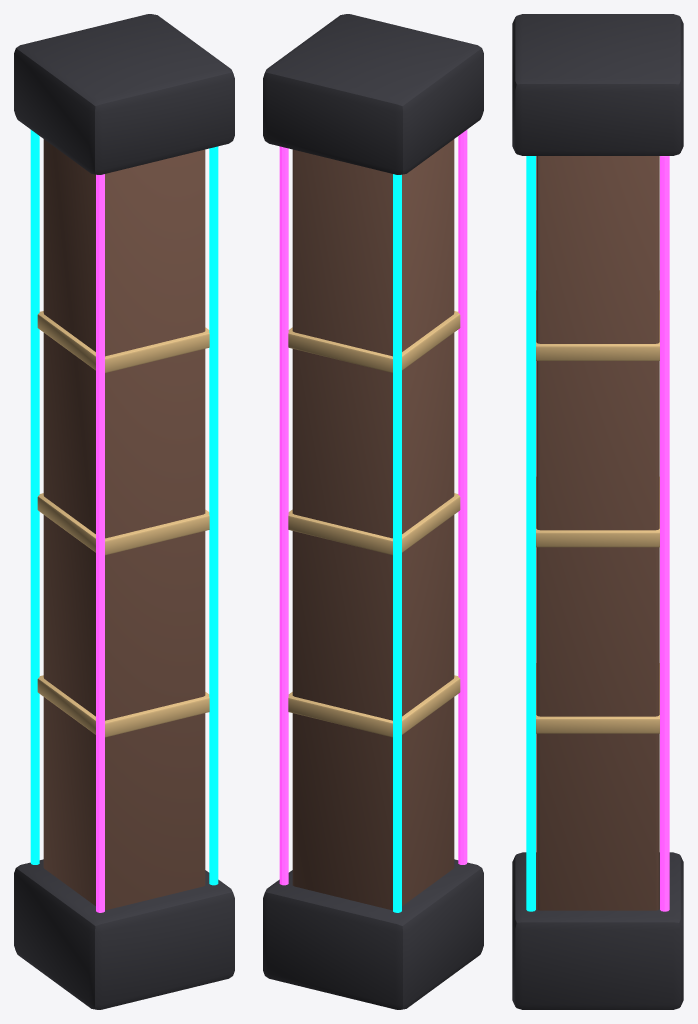
The model's file is KIT_Coluna.glb.
3 renders of one model, left to right at view 1: azimuth 30°, elevation 25°; view 2: azimuth 150°, elevation 25°; view 3: azimuth 270°, elevation 25°, orthographic. The views are drawn at different scales.
Visible parts, largest first — view 1: KIT_Coluna; view 2: KIT_Coluna; view 3: KIT_Coluna.
Part boxes in pixels (x1,y1,x2,y2): KIT_Coluna: (14, 14, 234, 1009); KIT_Coluna: (263, 14, 483, 1009); KIT_Coluna: (512, 14, 683, 1009).
Bounding box in the file's own units: 0.5 × 3 × 0.5.
